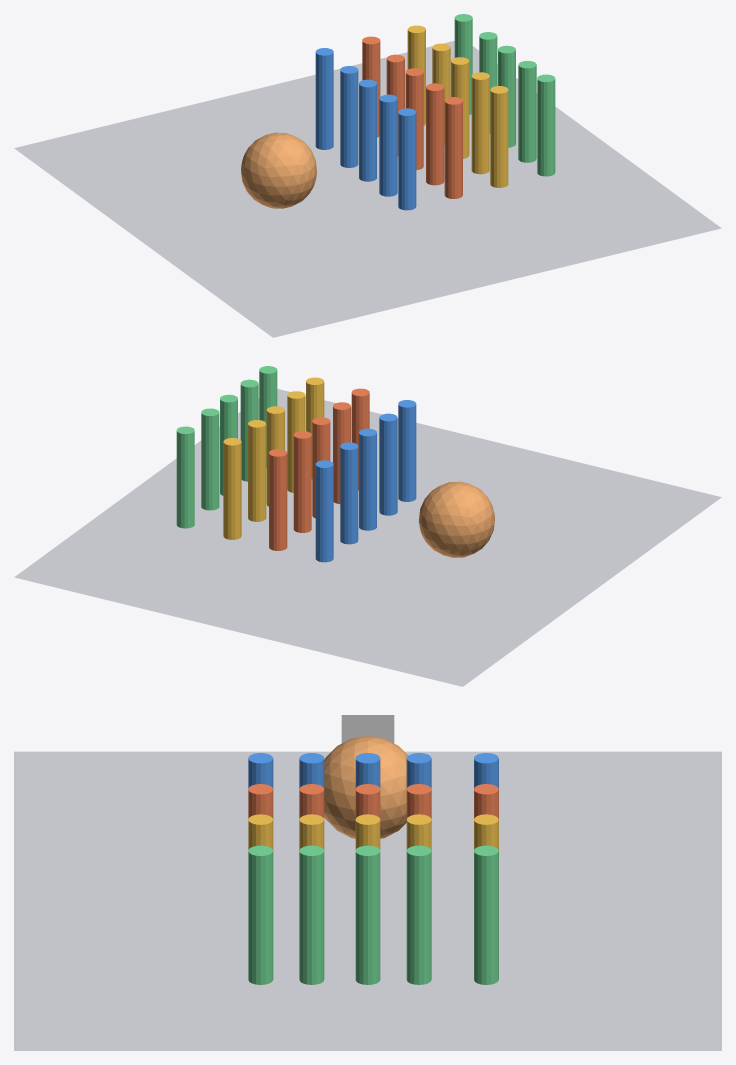
Rendered from SmokeSoftbody.glb.
3 renders of one model, top to bottom at view 1: azimuth 30°, elevation 25°; view 2: azimuth 150°, elevation 25°; view 3: azimuth 270°, elevation 25°, orthographic. The views are drawn at different scales.
Parts seen in each view (by area): view 1: Plane.001, VortexSphere.001, Cylinder.035, Cylinder.036, Cylinder.038, Cylinder.032, Cylinder.033, Cylinder.037, Cylinder.039, Cylinder.024, Cylinder.028, Cylinder.034 (+10 smaller); view 2: Plane.001, VortexSphere.001, Cylinder.036, Cylinder.024, Cylinder.027, Cylinder.028, Cylinder.031, Cylinder.029, Cylinder.032, Cylinder.025, Cylinder.026, Cylinder.030 (+10 smaller); view 3: Plane.001, VortexSphere.001, Cylinder.027, Cylinder.035, Cylinder.039, Cylinder.023, Cylinder.031, SmokeFlow.001, Cylinder.026, Cylinder.034, Cylinder.038, Cylinder.022 (+11 smaller).
Boxes of the visible parts, x1,y1,x2,y2 form: Plane.001: (14, 41, 721, 337); VortexSphere.001: (241, 132, 317, 208); Cylinder.035: (537, 74, 555, 176); Cylinder.036: (379, 94, 397, 196); Cylinder.038: (471, 72, 489, 174); Cylinder.032: (398, 108, 416, 210); Cylinder.033: (444, 97, 462, 198); Cylinder.037: (426, 83, 444, 185); Cylinder.039: (518, 60, 536, 162); Cylinder.024: (340, 66, 358, 167); Cylinder.028: (315, 48, 333, 149); Cylinder.034: (490, 86, 508, 187); Plane.001: (14, 389, 721, 686); VortexSphere.001: (418, 481, 494, 557); Cylinder.036: (379, 413, 397, 515); Cylinder.024: (340, 442, 358, 544); Cylinder.027: (201, 408, 219, 510); Cylinder.028: (315, 460, 333, 562); Cylinder.031: (176, 426, 194, 528); Cylinder.029: (269, 449, 287, 550); Cylinder.032: (398, 400, 416, 501); Cylinder.025: (293, 431, 311, 532); Cylinder.026: (248, 420, 266, 521); Cylinder.030: (223, 438, 241, 539); Plane.001: (14, 751, 721, 1050); VortexSphere.001: (324, 736, 407, 838); Cylinder.027: (406, 845, 431, 984); Cylinder.035: (248, 845, 273, 984); Cylinder.039: (299, 845, 324, 984); Cylinder.023: (355, 845, 380, 984); Cylinder.031: (474, 845, 498, 984); SmokeFlow.001: (341, 715, 394, 743); Cylinder.026: (406, 814, 431, 850); Cylinder.034: (248, 814, 273, 850); Cylinder.038: (299, 814, 324, 850); Cylinder.022: (355, 814, 380, 849).
Size of the model in its own units: 6.48 by 1.45 by 6.48.
